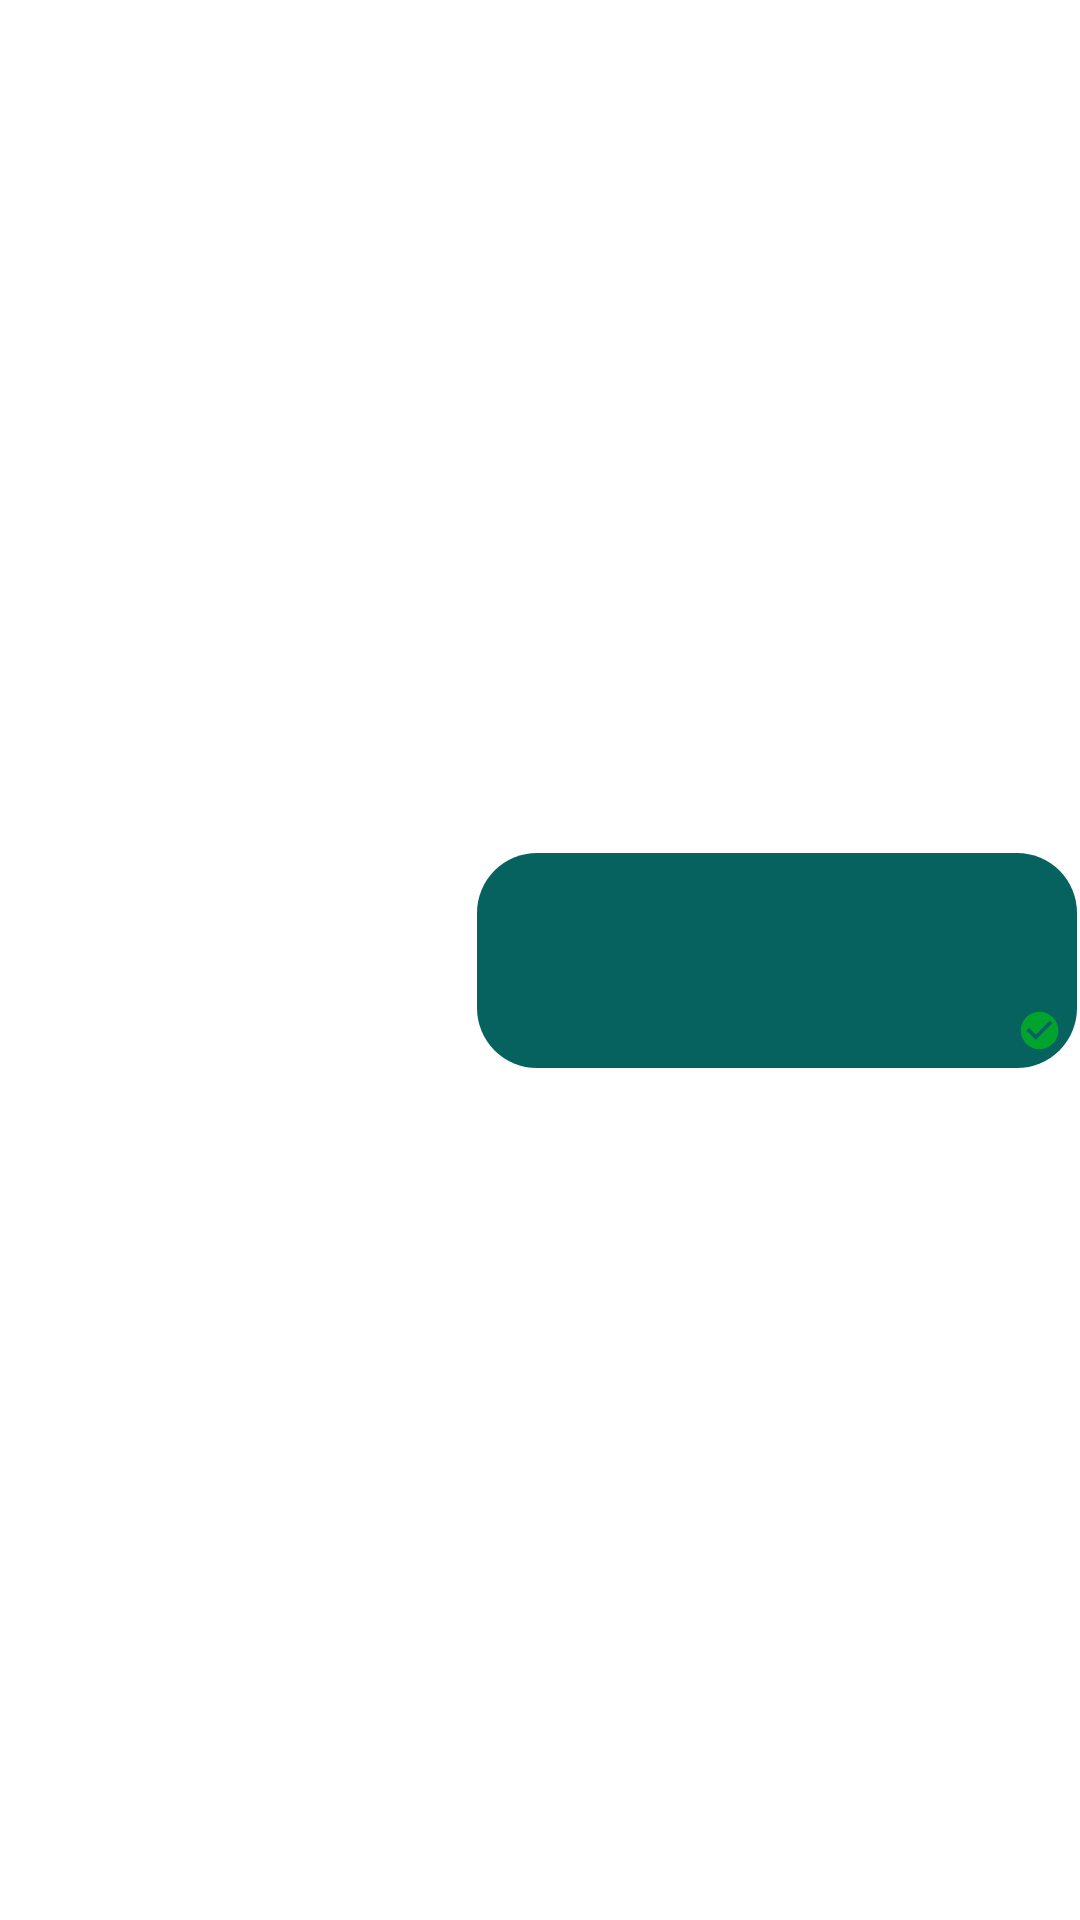

Named icons in this screenshot (1080×1920) and their bounding boxes, (x1, y1, x2, y2):
check circle: (1021, 1012, 1058, 1049)
